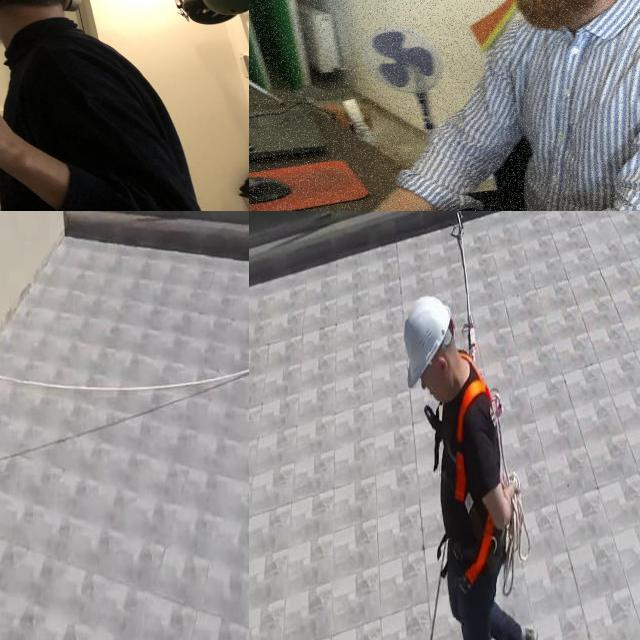Harness: (455, 381, 496, 588)
